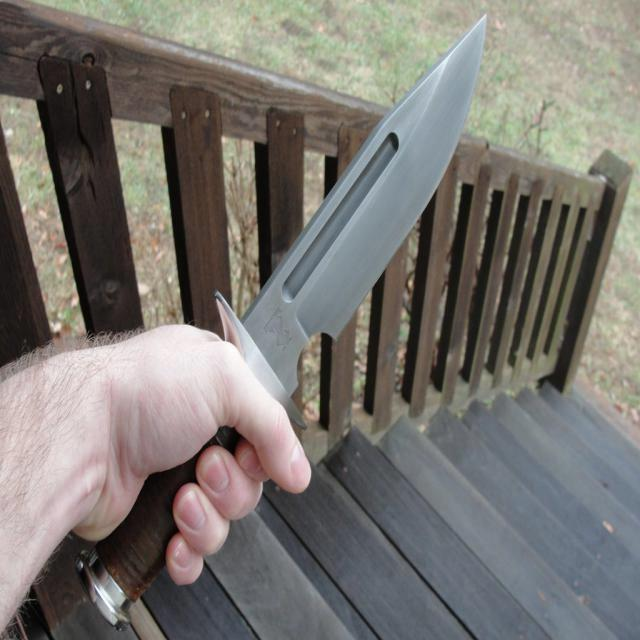Knife: (216, 18, 484, 419)
